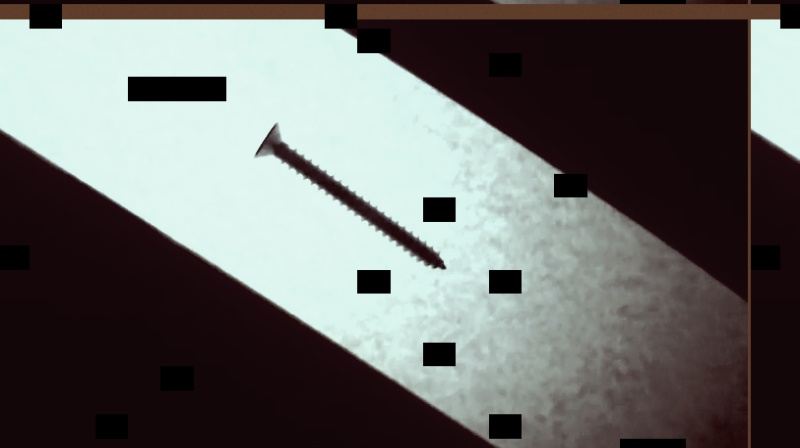S002: (248, 118, 447, 270)
